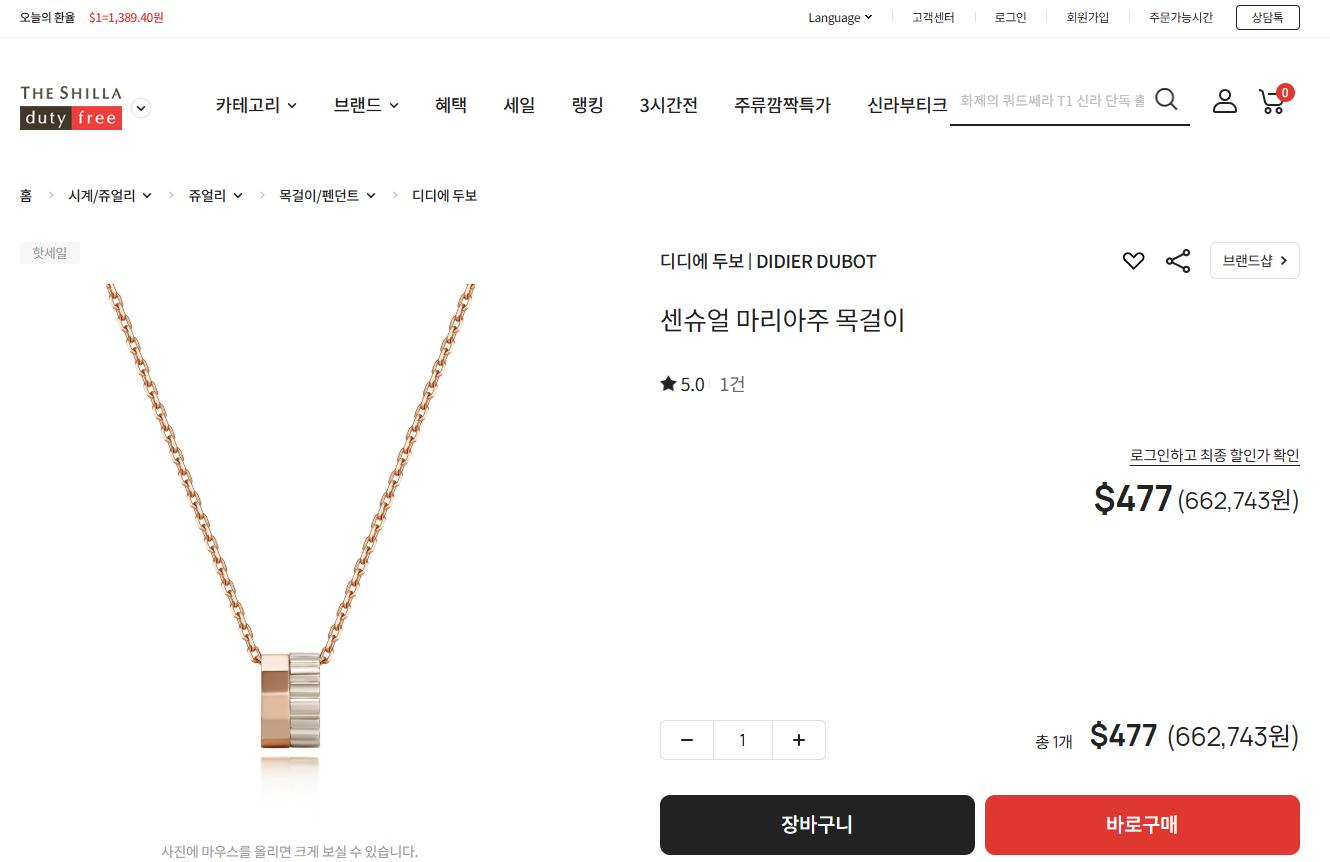button: (984, 788, 1299, 855), (651, 790, 970, 854), (654, 718, 831, 764), (1215, 241, 1305, 286), (1255, 81, 1326, 131), (850, 89, 950, 123), (719, 91, 834, 120), (1128, 445, 1301, 464), (635, 80, 707, 121), (493, 90, 554, 126), (421, 84, 471, 123), (1246, 1, 1300, 33), (561, 86, 624, 113), (1132, 10, 1220, 28), (1200, 84, 1245, 119), (796, 8, 876, 27), (905, 9, 968, 33), (1159, 244, 1201, 278), (1161, 76, 1194, 119), (1115, 250, 1154, 285), (1050, 10, 1118, 29), (984, 6, 1030, 26)
checkbox: (201, 89, 299, 126), (321, 85, 406, 121), (276, 179, 388, 206), (78, 181, 171, 208), (180, 186, 246, 206)
input_field: (950, 86, 1188, 119)
